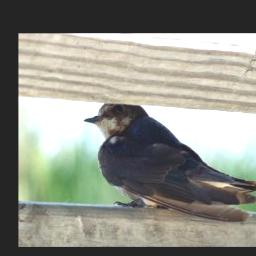Swallow: (83, 102, 256, 223)
